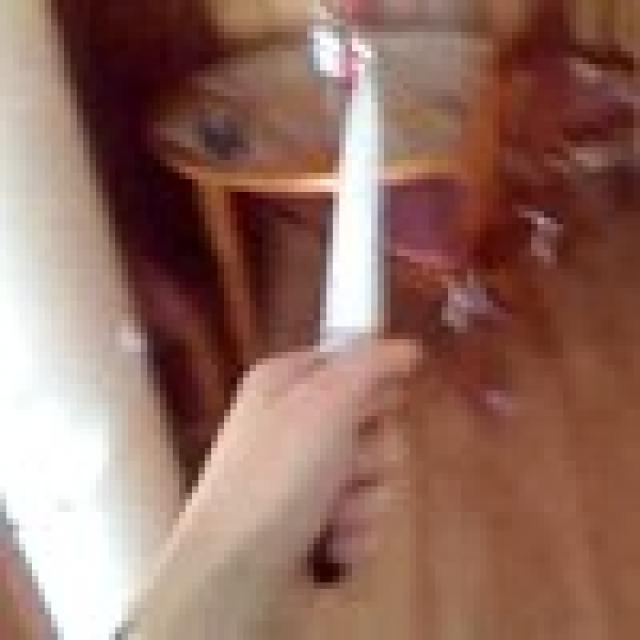Knife: (256, 51, 435, 557)
